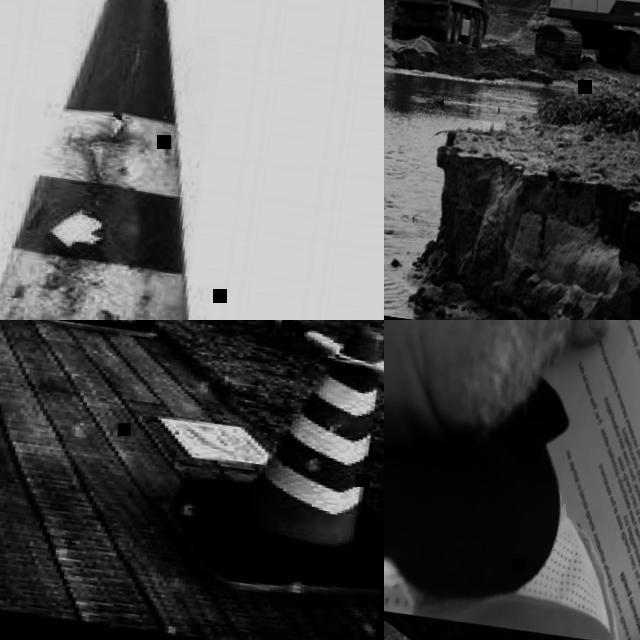NO-Mask: (410, 320, 640, 451)
Person: (384, 320, 640, 640)
Safety Cone: (0, 0, 384, 320), (141, 320, 384, 611)
Safety Vest: (384, 450, 634, 640)
machinery: (384, 0, 640, 84), (384, 0, 501, 53)
